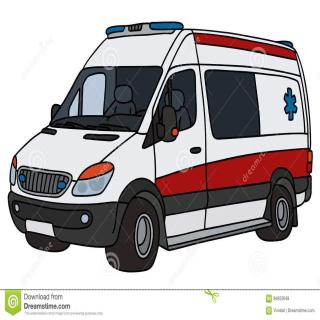Ambulance: (3, 10, 309, 281)
